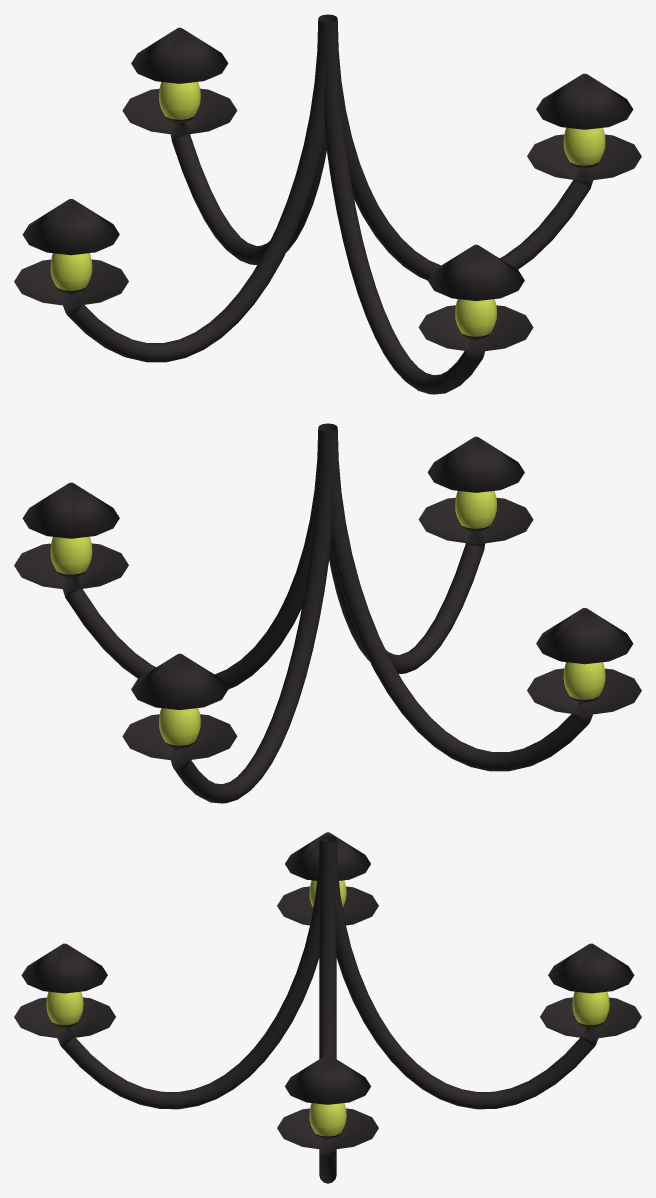
Rendered from chandelier.fbx.
3 renders of one model, top to bottom at view 1: azimuth 30°, elevation 25°; view 2: azimuth 150°, elevation 25°; view 3: azimuth 270°, elevation 25°, orthographic. The views are drawn at different scales.
Parts seen in each view (by area): view 1: BézierCurve; view 2: BézierCurve; view 3: BézierCurve.
Part boxes in pixels (bbox=[...]): BézierCurve: bbox=[14, 14, 641, 394]; BézierCurve: bbox=[14, 423, 641, 803]; BézierCurve: bbox=[14, 832, 641, 1183].
Bounding box in the file's own units: 290 × 137 × 290.
